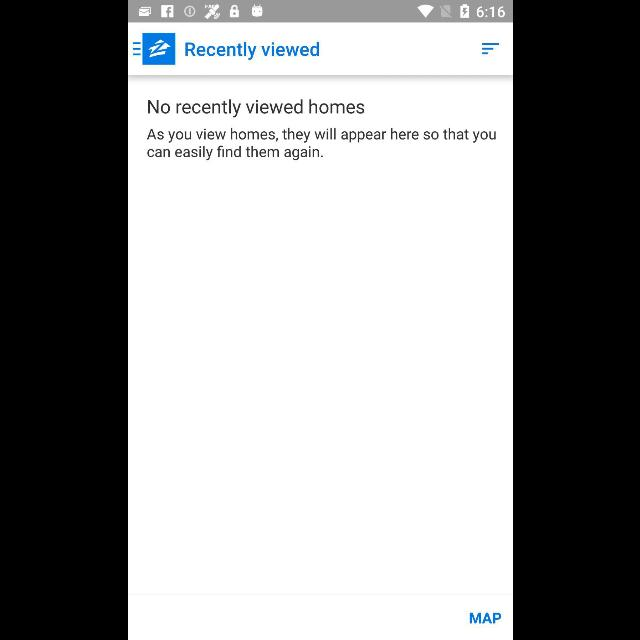icon: (482, 43, 498, 55)
image: (132, 33, 176, 65)
text: (147, 128, 496, 160), (147, 99, 363, 118), (185, 42, 319, 60), (469, 612, 501, 624)
toolbar: (128, 23, 512, 75)
uppertaskbar: (128, 1, 512, 23)
